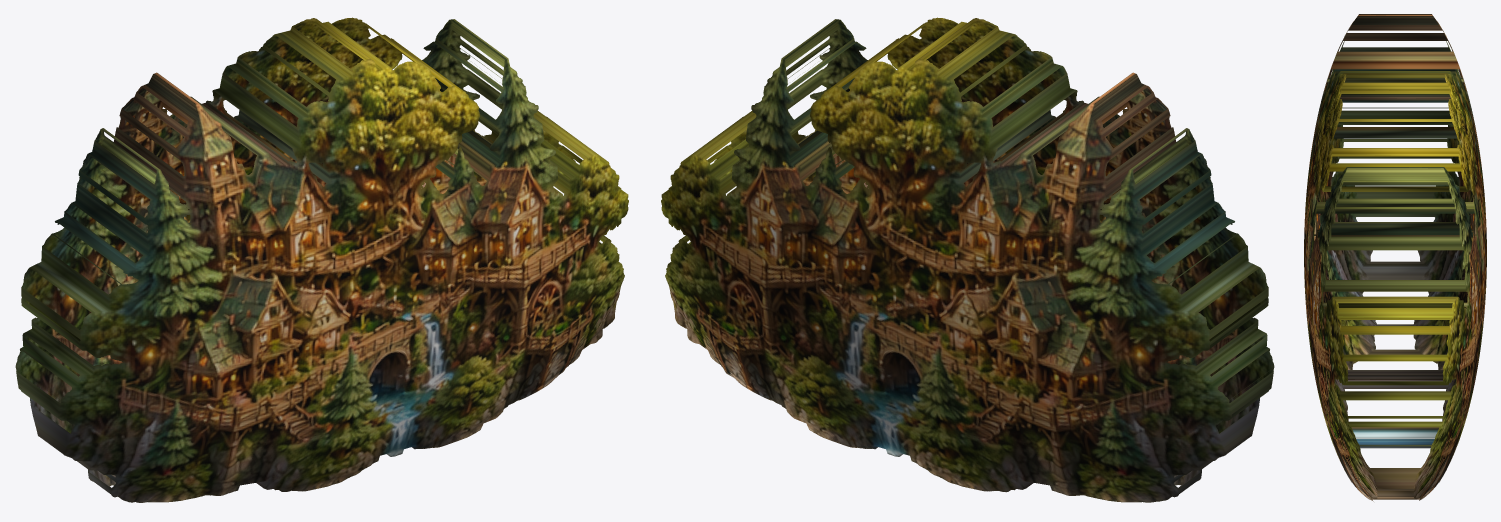
3 views of the same model, side by side, from view 1: azimuth 30°, elevation 25°; view 2: azimuth 150°, elevation 25°; view 3: azimuth 270°, elevation 25° (orthographic). The views are drawn at different scales.
Visible parts, largest first — view 1: civilizations:2; view 2: civilizations:2; view 3: civilizations:2.
Boxes of the visible parts, x1,y1,x2,y2 form: civilizations:2: [15, 17, 628, 502]; civilizations:2: [661, 17, 1274, 502]; civilizations:2: [1304, 14, 1486, 501].
Bounding box in the file's own units: 1.33 × 0.9444 × 0.42.
Materials: 1 (1 with a texture image).
